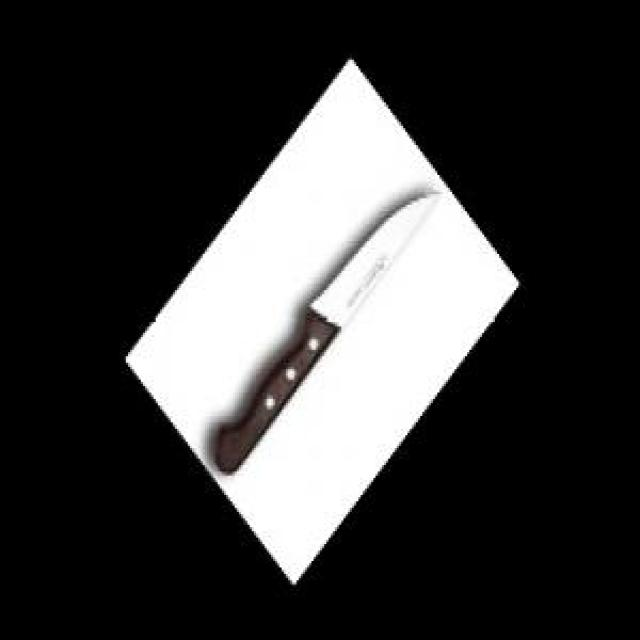knife: (213, 190, 445, 475)
